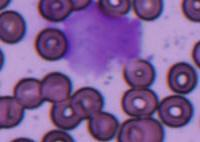D: (60, 3, 143, 76)
